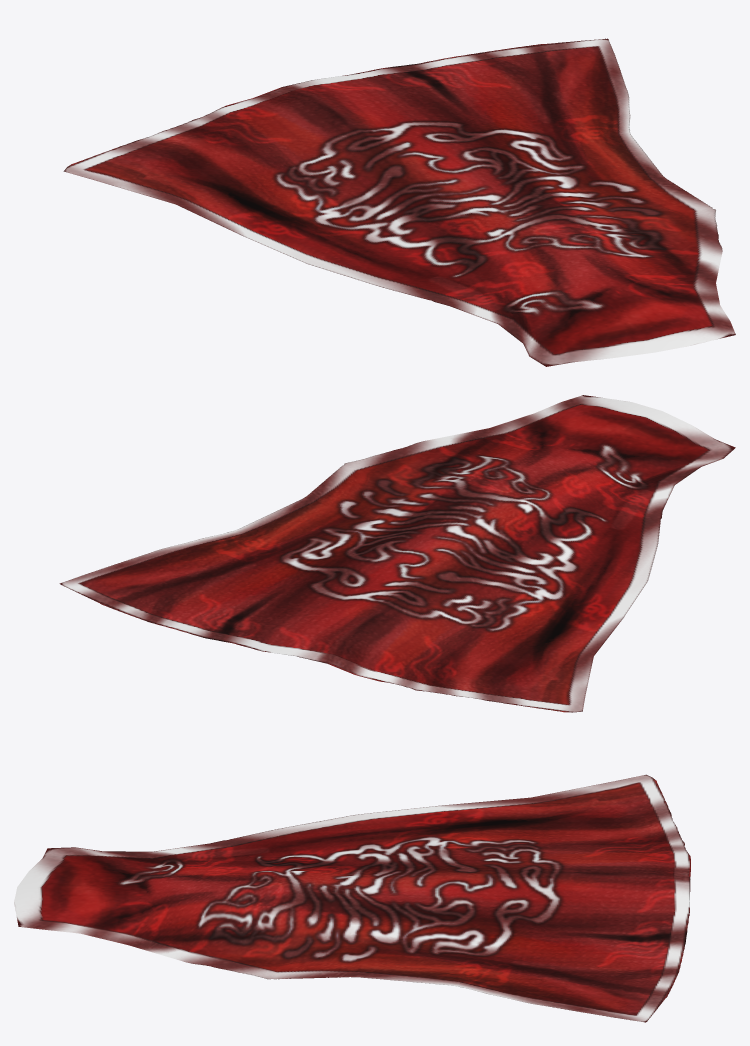
Rendered from GAM_Cloak.FBX.
3 views of the same model, one above another, from view 1: azimuth 30°, elevation 25°; view 2: azimuth 150°, elevation 25°; view 3: azimuth 270°, elevation 25° (orthographic). The views are drawn at different scales.
Parts seen in each view (by area): view 1: GAM_Cloak; view 2: GAM_Cloak; view 3: GAM_Cloak.
Part boxes in pixels (bbox=[...]): GAM_Cloak: bbox=[63, 38, 735, 366]; GAM_Cloak: bbox=[59, 395, 735, 712]; GAM_Cloak: bbox=[14, 774, 690, 1022].
Bounding box in the file's own units: 112 × 3.27 × 128.
